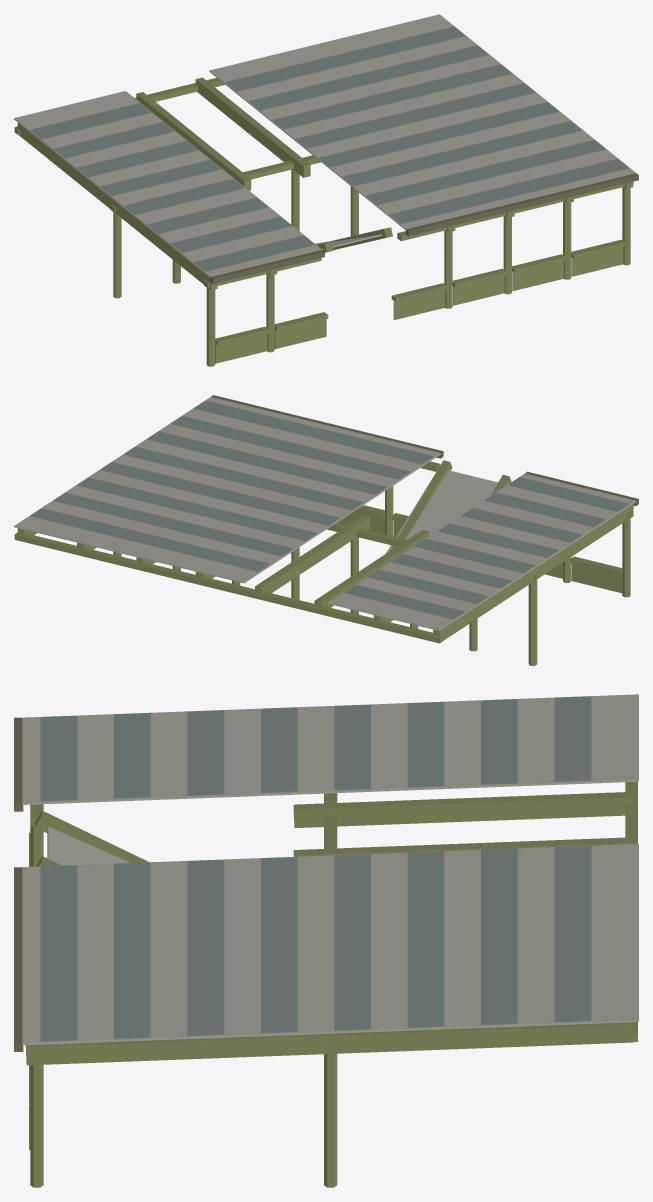
The model's file is SM_MarquesinaAdosada_v2_LOD1.fbx.
3 views of the same model, one above another, from view 1: azimuth 30°, elevation 25°; view 2: azimuth 150°, elevation 25°; view 3: azimuth 270°, elevation 25° (orthographic). The views are drawn at different scales.
Parts seen in each view (by area): view 1: SM_marquesina_adosada_v2_LOD1; view 2: SM_marquesina_adosada_v2_LOD1; view 3: SM_marquesina_adosada_v2_LOD1.
Part boxes in pixels (x1=…): SM_marquesina_adosada_v2_LOD1: x1=14, y1=14, x2=638, y2=366; SM_marquesina_adosada_v2_LOD1: x1=14, y1=395, x2=638, y2=665; SM_marquesina_adosada_v2_LOD1: x1=14, y1=694, x2=638, y2=1187.
Bounding box in the file's own units: 21 × 5.08 × 17.03.
